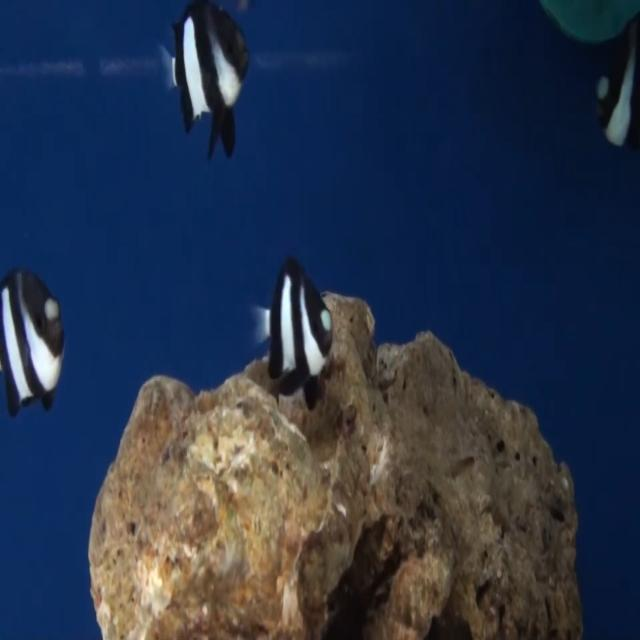ThreeStripedDamselfish: (158, 0, 250, 160), (253, 256, 333, 398)
